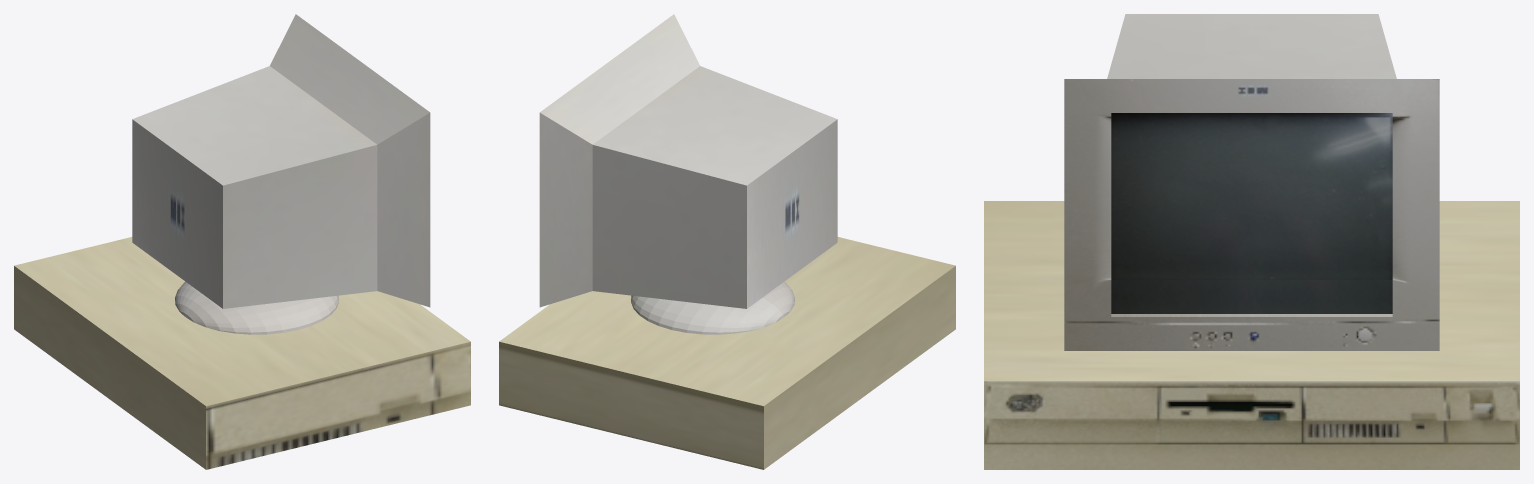
Rendered from computer.glb.
The picture shows the model from 3 angles, left to right: view 1: azimuth 30°, elevation 25°; view 2: azimuth 150°, elevation 25°; view 3: azimuth 270°, elevation 25°; orthographic projection. The views are drawn at different scales.
Visible parts, largest first — view 1: Monitor, Cube, Sphere; view 2: Monitor, Cube, Sphere; view 3: Monitor, Cube.
Boxes of the visible parts, x1,y1,x2,y2 form: Monitor: [132, 14, 430, 308]; Cube: [14, 237, 470, 469]; Sphere: [175, 281, 338, 334]; Monitor: [539, 14, 837, 308]; Cube: [499, 237, 955, 469]; Sphere: [631, 281, 794, 334]; Monitor: [1064, 14, 1439, 350]; Cube: [984, 201, 1519, 469].
Size of the model in its own units: 2 by 1.98 by 2.51.
Materials: 2 (2 with a texture image).
